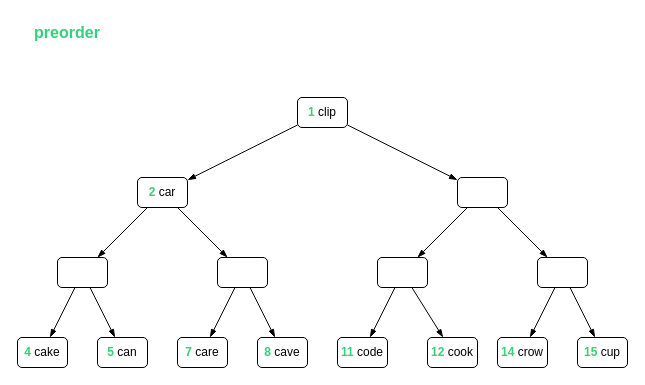
Some shapes in this 645 by 385 pixel diagram are drawn without their labels. Here are the shapes that lost their labels. From the top down, the centre of each, then its label:
(482,192): 9 crab
(82,272): 3 call
(242,272): 6 cat
(402,272): 10 coin
(562,272): 13 cube
